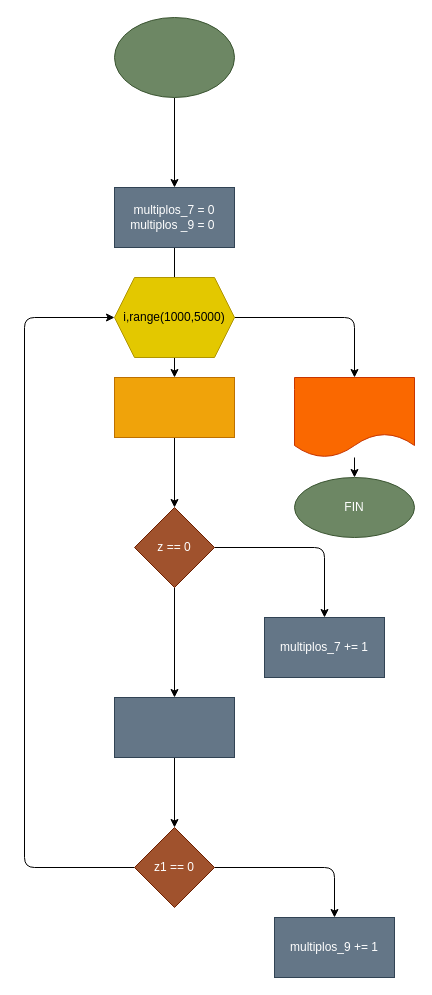
The diagram is 432 pixels wide and 995 high, and some of its shapes have lost their labels. Here are the shapes that lost their labels. From the top down, the centre of each, then its label:
At (x=174, y=57): "INICIO".
At (x=174, y=407): "z = i % 7".
At (x=354, y=417): "multiplos_7 multiplos_9".
At (x=174, y=727): "z1 = i % 9".
